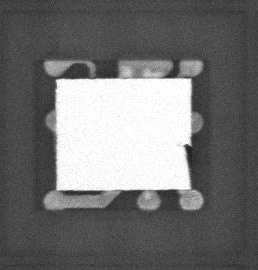DIE_BROKEN: (183, 142, 193, 190)
